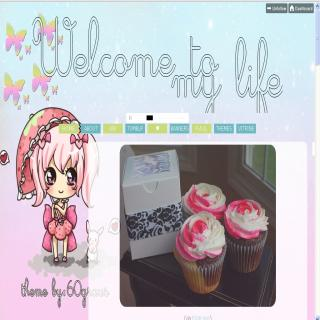Muffin: (172, 211, 228, 295), (222, 197, 267, 276), (177, 180, 226, 220)
